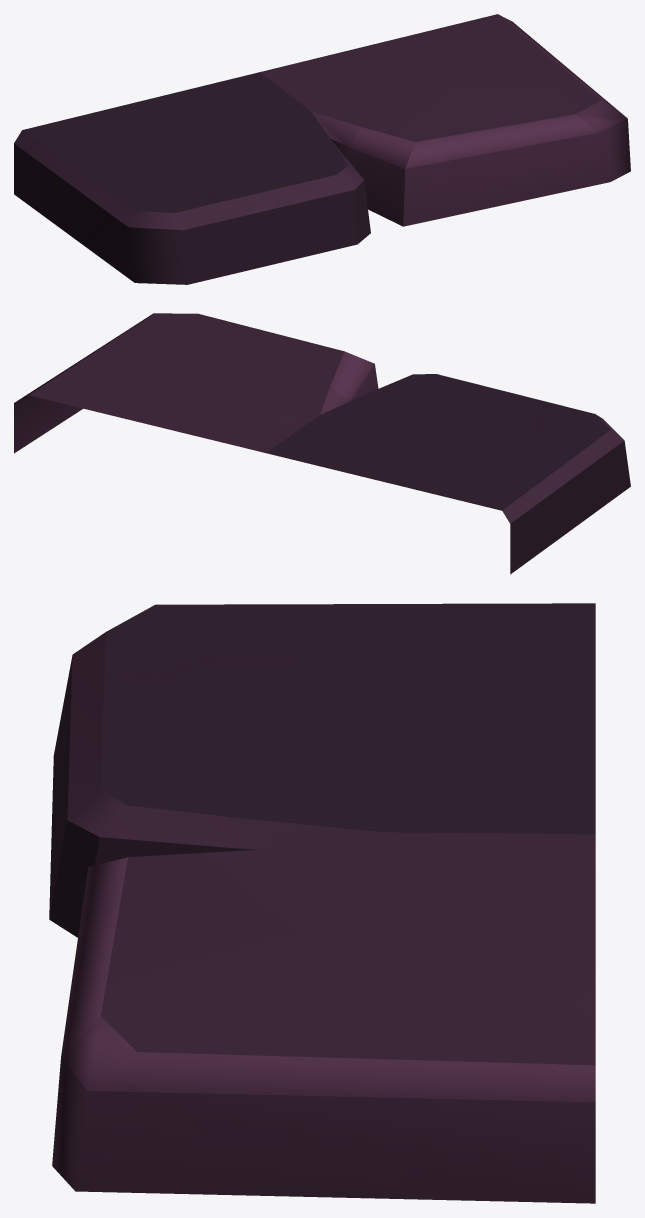
Rendered from floor_pit_edge_alt_4.fbx.
3 renders of one model, top to bottom at view 1: azimuth 30°, elevation 25°; view 2: azimuth 150°, elevation 25°; view 3: azimuth 270°, elevation 25°, orthographic. The views are drawn at different scales.
Visible parts, largest first — view 1: floor_pit_edge_alt_4; view 2: floor_pit_edge_alt_4; view 3: floor_pit_edge_alt_4.
Boxes of the visible parts, x1=… form: floor_pit_edge_alt_4: x1=14, y1=14, x2=630, y2=284; floor_pit_edge_alt_4: x1=14, y1=313, x2=630, y2=574; floor_pit_edge_alt_4: x1=49, y1=603, x2=595, y2=1203.
Bounding box in the file's own units: 210 × 27.79 × 100.
